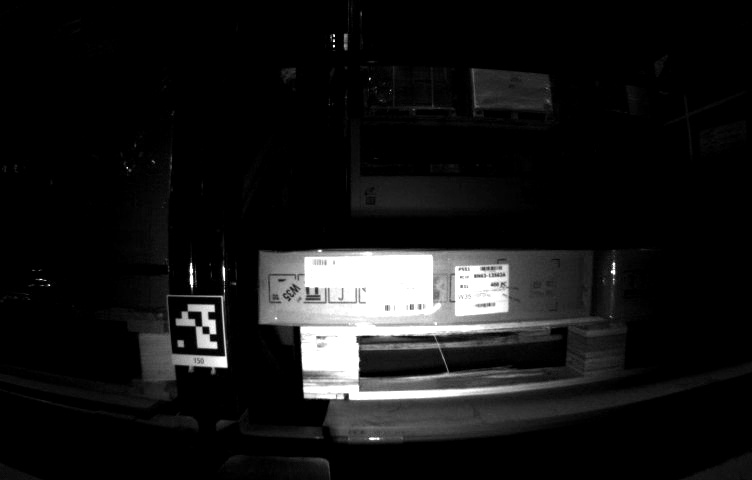True Barcode: (453, 262, 507, 314)
